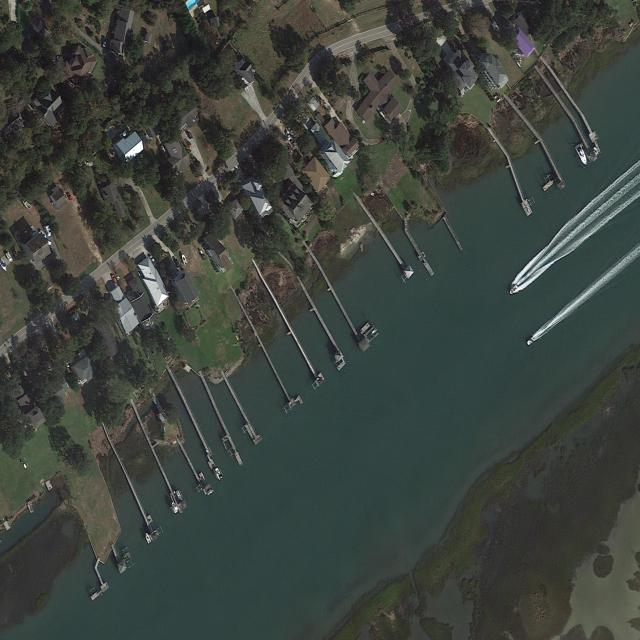ship: (574, 142, 589, 167), (213, 465, 223, 481), (21, 198, 32, 211), (171, 500, 179, 515), (5, 251, 14, 263), (509, 285, 518, 296), (181, 253, 188, 266), (527, 336, 536, 346), (144, 532, 151, 544)
small-vehicle: (290, 138, 297, 150), (148, 254, 156, 264), (111, 274, 118, 285), (66, 191, 73, 201), (102, 37, 108, 48), (286, 131, 291, 141)
